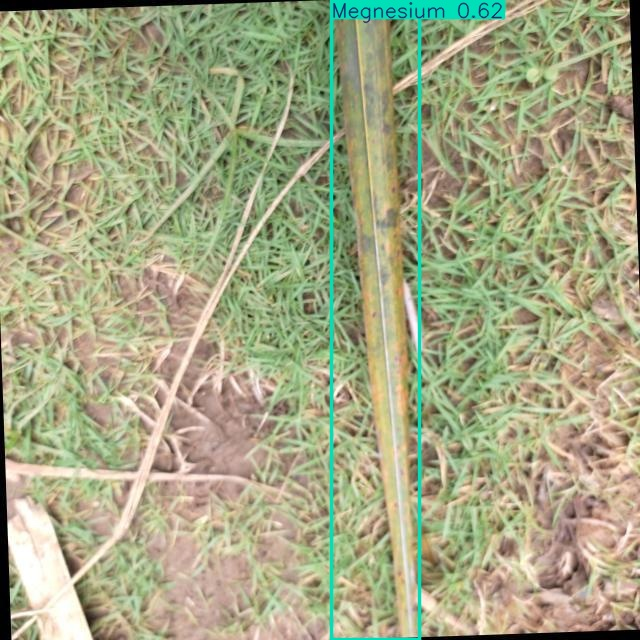Megnesium: (331, 0, 420, 639)
